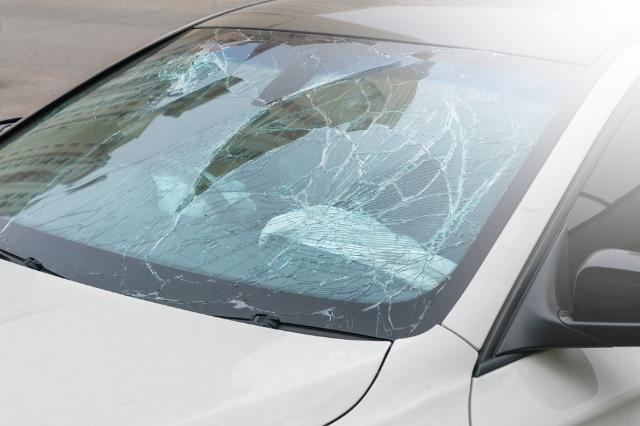glass shatter: (0, 27, 583, 340)
